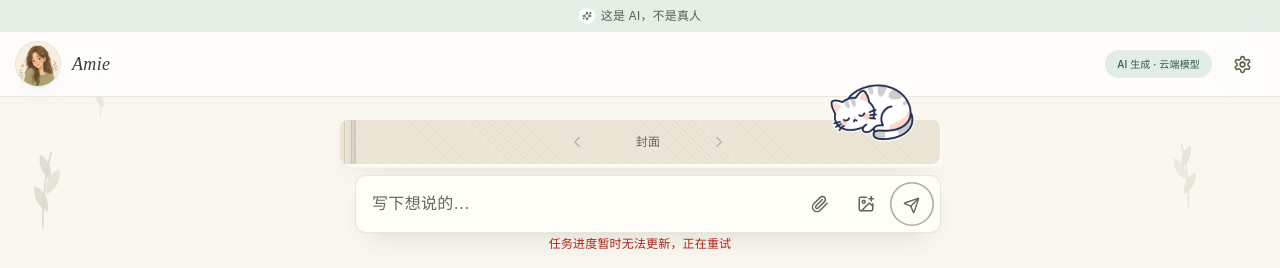
ChatPage › explains send failure {"code":"LLM_UNAVAILABLE"} without losing the draft
The width and height of the screenshot is (1280, 268).
Type "这条会失败" into the text box named "聊天消息" at (584, 204), box [372, 182, 796, 226]
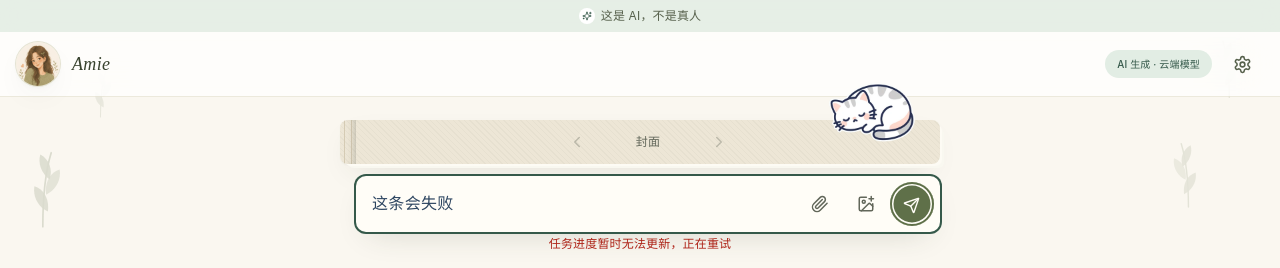
Click the button named "发送消息" at (912, 204), box [890, 182, 934, 226]
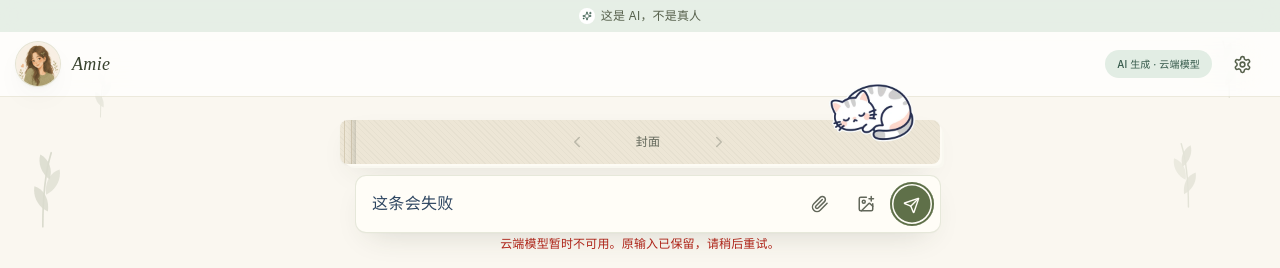
Expected: the text "云端模型暂时不可用。原输入已保留，请稍后重试。" is shown, [500, 236, 780, 251]
